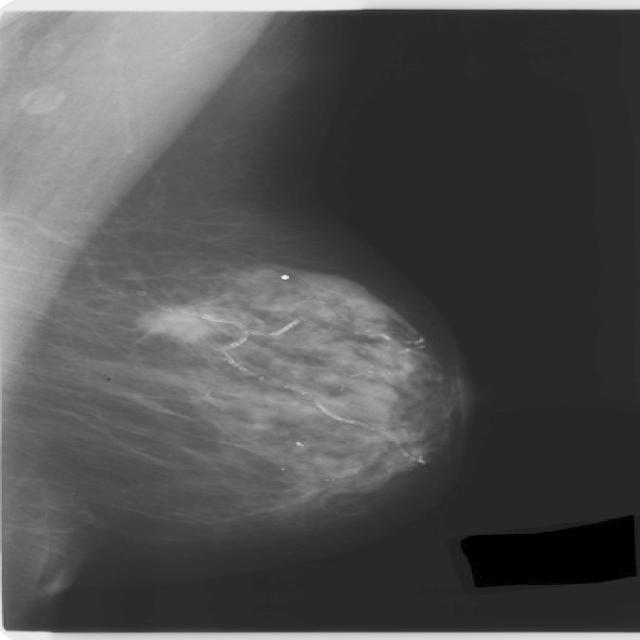tumour: (132, 302, 212, 342)
